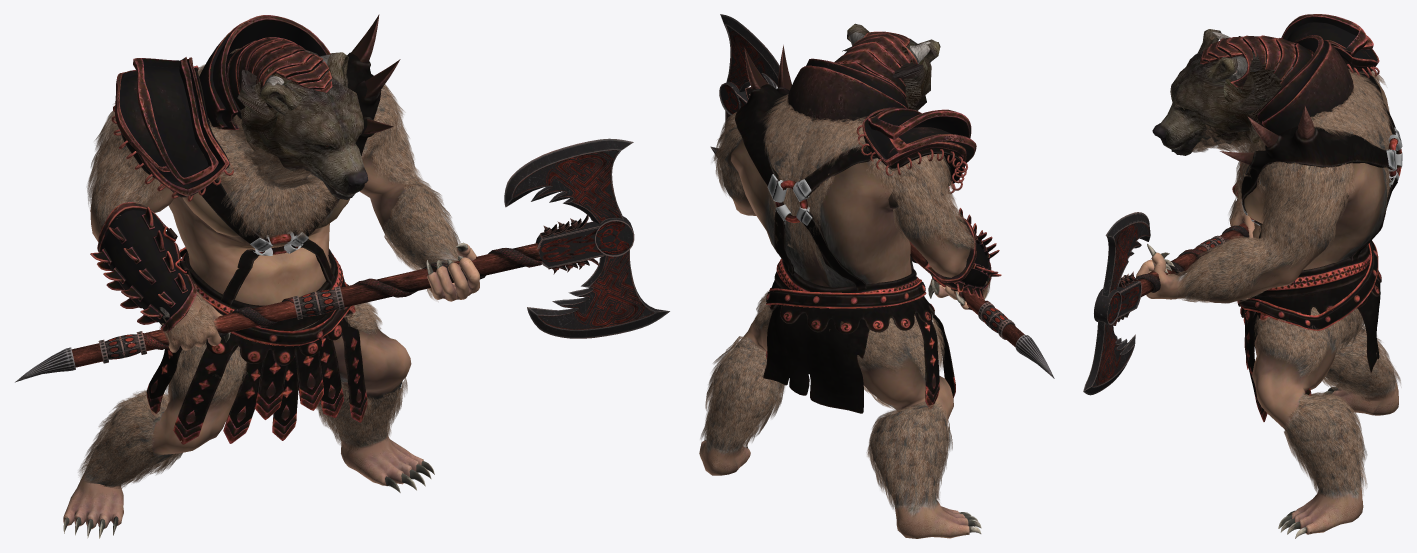
The model's file is bearclaw.glb.
3 renders of one model, left to right at view 1: azimuth 30°, elevation 25°; view 2: azimuth 150°, elevation 25°; view 3: azimuth 270°, elevation 25°, orthographic. The views are drawn at different scales.
Visible parts, largest first — view 1: Render_Bear:bodi.001, Render_Bear:polySurface2839, Render_Bear:polySurface4134, Render_Bear:group36group1pTorus10, Render_Bear:model_0:Mesh, Render_Bear:group36group1polySurface19, Render_Bear:polySurface4115, Render_Bear:group36group1polySurface16, Render_Bear:group36group1polySurface14, Render_Bear:group36group1polySurface11, Render_Bear:group36group1_helmet_lp0_polySurface389helm_2f38, Render_Bear:group36group1polySurface13 (+8 smaller); view 2: Render_Bear:bodi.001, Render_Bear:polySurface2839, Render_Bear:polySurface4115, Render_Bear:leather, Render_Bear:group36group1pTorus10, Render_Bear:group36group1polySurface16, Render_Bear:group36group1polySurface14, Render_Bear:polySurface4134, Render_Bear:group36group1Group5group35, Render_Bear:group36group1_helmet_lp0_polySurface389helm_2f38, Render_Bear:group36group35group1polySurface9, Render_Bear:group36group1polySurface19 (+6 smaller); view 3: Render_Bear:bodi.001, Render_Bear:polySurface2839, Render_Bear:model_0:Mesh, Render_Bear:polySurface4134, Render_Bear:group36group1polySurface16, Render_Bear:group36group1polySurface14, Render_Bear:polySurface4115, Render_Bear:group36group1_helmet_lp0_polySurface389helm_2f38, Render_Bear:group36group1pTorus10, Render_Bear:group36group35group1polySurface9, Render_Bear:group36group35group1polySurface6, Render_Bear:group36group1Group5group35 (+4 smaller).
Boxes of the visible parts, x1=… form: Render_Bear:bodi.001: x1=63, y1=54, x2=479, y2=538; Render_Bear:polySurface2839: x1=87, y1=48, x2=460, y2=453; Render_Bear:polySurface4134: x1=15, y1=138, x2=669, y2=382; Render_Bear:group36group1pTorus10: x1=111, y1=57, x2=233, y2=201; Render_Bear:model_0:Mesh: x1=237, y1=49, x2=368, y2=199; Render_Bear:group36group1polySurface19: x1=90, y1=202, x2=196, y2=332; Render_Bear:polySurface4115: x1=78, y1=330, x2=295, y2=488; Render_Bear:group36group1polySurface16: x1=200, y1=52, x2=381, y2=305; Render_Bear:group36group1polySurface14: x1=199, y1=15, x2=330, y2=129; Render_Bear:group36group1polySurface11: x1=173, y1=316, x2=367, y2=444; Render_Bear:group36group1_helmet_lp0_polySurface389helm_2f38: x1=225, y1=37, x2=332, y2=118; Render_Bear:group36group1polySurface13: x1=254, y1=346, x2=323, y2=419; Render_Bear:bodi.001: x1=699, y1=32, x2=988, y2=538; Render_Bear:polySurface2839: x1=700, y1=42, x2=991, y2=455; Render_Bear:polySurface4115: x1=829, y1=314, x2=952, y2=518; Render_Bear:leather: x1=763, y1=304, x2=869, y2=413; Render_Bear:group36group1pTorus10: x1=856, y1=107, x2=976, y2=193; Render_Bear:group36group1polySurface16: x1=735, y1=84, x2=916, y2=290; Render_Bear:group36group1polySurface14: x1=787, y1=58, x2=908, y2=124; Render_Bear:polySurface4134: x1=710, y1=14, x2=1054, y2=378; Render_Bear:group36group1Group5group35: x1=769, y1=280, x2=934, y2=334; Render_Bear:group36group1_helmet_lp0_polySurface389helm_2f38: x1=834, y1=31, x2=917, y2=98; Render_Bear:group36group35group1polySurface9: x1=766, y1=279, x2=926, y2=308; Render_Bear:group36group1polySurface19: x1=924, y1=208, x2=1001, y2=299; Render_Bear:bodi.001: x1=1136, y1=31, x2=1398, y2=538; Render_Bear:polySurface2839: x1=1172, y1=36, x2=1393, y2=501; Render_Bear:model_0:Mesh: x1=1152, y1=29, x2=1296, y2=155; Render_Bear:polySurface4134: x1=1083, y1=212, x2=1249, y2=395; Render_Bear:group36group1polySurface16: x1=1241, y1=72, x2=1397, y2=261; Render_Bear:group36group1polySurface14: x1=1257, y1=35, x2=1353, y2=135; Render_Bear:polySurface4115: x1=1322, y1=325, x2=1400, y2=401; Render_Bear:group36group1_helmet_lp0_polySurface389helm_2f38: x1=1200, y1=35, x2=1314, y2=93; Render_Bear:group36group1pTorus10: x1=1281, y1=14, x2=1379, y2=78; Render_Bear:group36group35group1polySurface9: x1=1237, y1=240, x2=1378, y2=330; Render_Bear:group36group35group1polySurface6: x1=1254, y1=244, x2=1370, y2=296; Render_Bear:group36group1Group5group35: x1=1237, y1=262, x2=1381, y2=323.
Bounding box in the file's own units: 1.89 × 1.68 × 1.13.
Materials: 5 (5 with a texture image).
